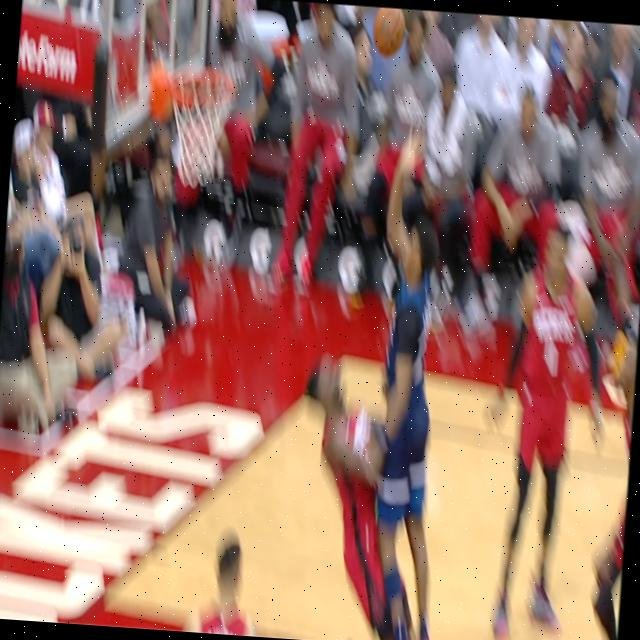Foul: (293, 312, 442, 570)
